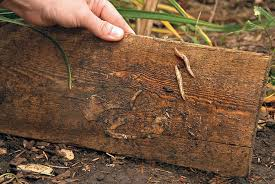slug: (173, 46, 195, 81), (174, 66, 186, 104), (128, 89, 143, 110)
